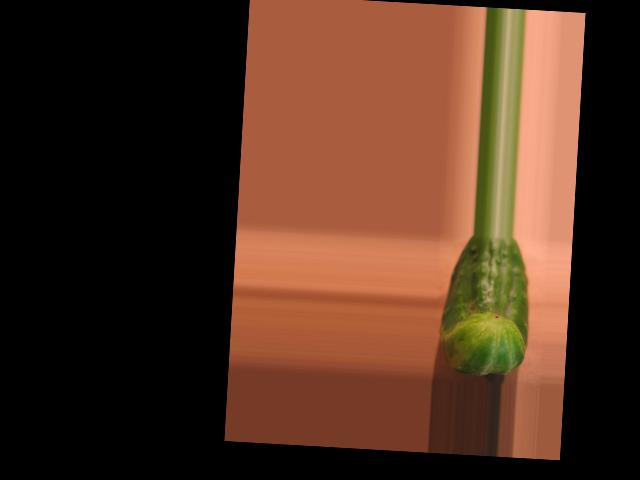cucumber: (438, 233, 534, 377)
